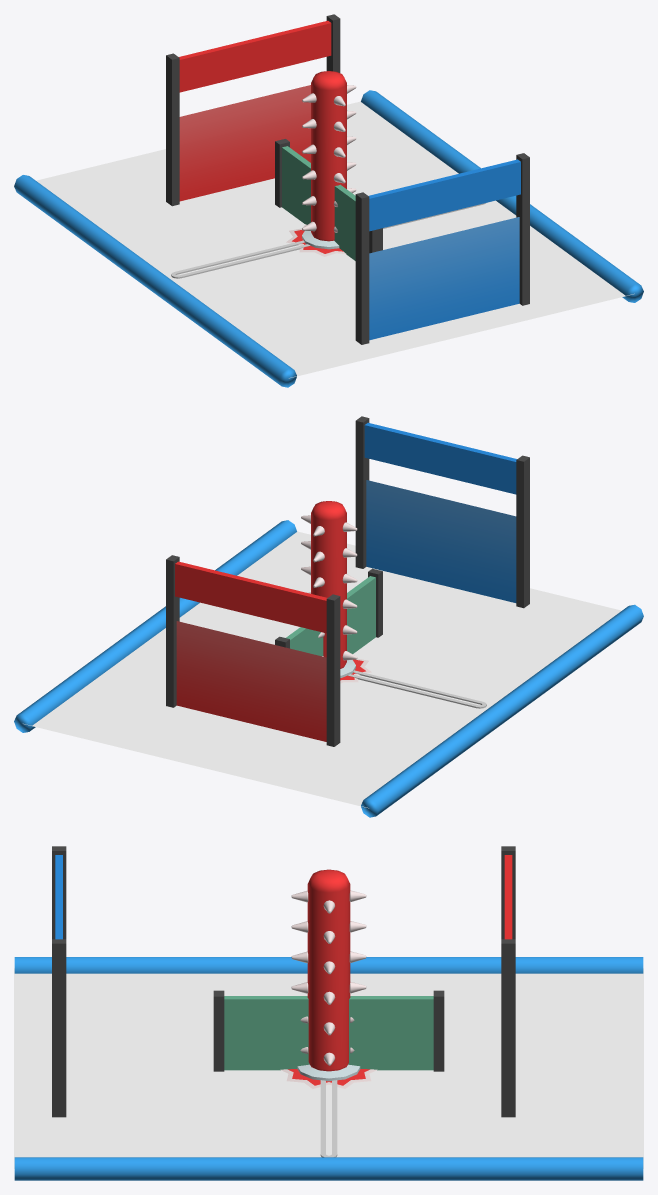
Rendered from Obstacle+Road.fbx.
3 views of the same model, one above another, from view 1: azimuth 30°, elevation 25°; view 2: azimuth 150°, elevation 25°; view 3: azimuth 270°, elevation 25° (orthographic). The views are drawn at different scales.
Visible parts, largest first — view 1: Road, Blu, Red, Obstacle_01, Wall, Obstacle_03, Obstacle_02; view 2: Road, Blu, Red, Obstacle_01, Wall, Obstacle_03; view 3: Road, Wall, Obstacle_01, Red, Blu, Obstacle_02, Obstacle_03.
Part boxes in pixels (x1=…): Road: x1=14, y1=90, x2=643, y2=387; Blu: x1=355, y1=153, x2=529, y2=344; Red: x1=166, y1=14, x2=340, y2=206; Obstacle_01: x1=302, y1=71, x2=356, y2=241; Wall: x1=275, y1=139, x2=382, y2=260; Obstacle_03: x1=171, y1=203, x2=485, y2=278; Obstacle_02: x1=286, y1=224, x2=346, y2=256; Road: x1=14, y1=520, x2=643, y2=817; Blu: x1=355, y1=416, x2=529, y2=608; Red: x1=166, y1=555, x2=340, y2=746; Obstacle_01: x1=301, y1=501, x2=357, y2=668; Wall: x1=275, y1=568, x2=382, y2=656; Obstacle_03: x1=347, y1=670, x2=486, y2=708; Road: x1=14, y1=957, x2=643, y2=1180; Wall: x1=213, y1=990, x2=444, y2=1071; Obstacle_01: x1=291, y1=869, x2=366, y2=1071; Red: x1=501, y1=846, x2=515, y2=1117; Blu: x1=52, y1=846, x2=66, y2=1117; Obstacle_02: x1=280, y1=1064, x2=377, y2=1088; Obstacle_03: x1=320, y1=1080, x2=337, y2=1157.
Size of the model in its own units: 189 by 85.66 by 238.
